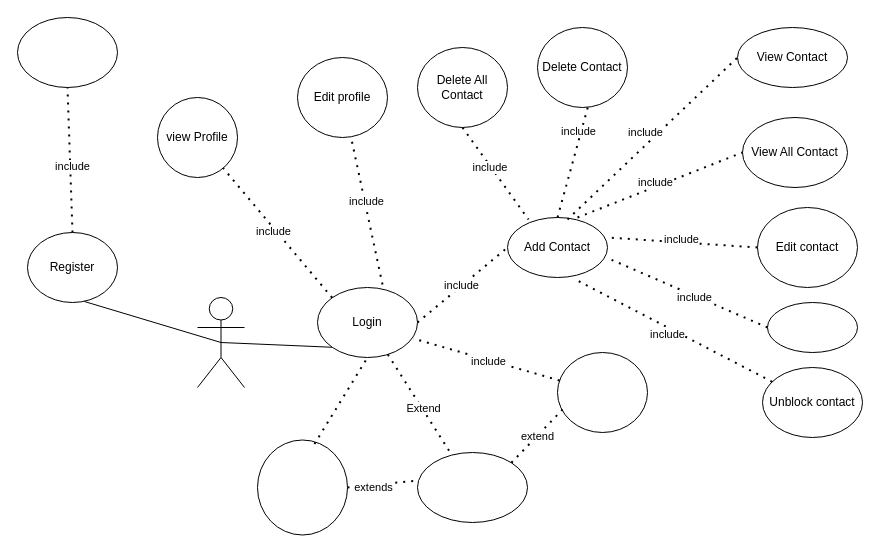
The diagram is 880 pixels wide and 553 high, and some of its shapes have lost their labels. The centre of each missing label's shape, as x and y in pixels:
Block contact: pixel 812 327
Delete Account: pixel 67 52
reset Email: pixel 302 487
reset password: pixel 602 392
USER: pixel 220 342
Verify details: pixel 472 487
